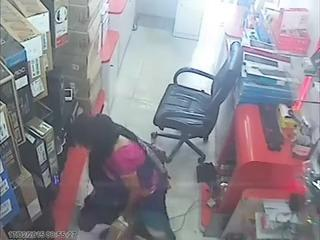shoplifting: (70, 107, 168, 240)
